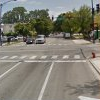crosswalk: (0, 54, 81, 60)
